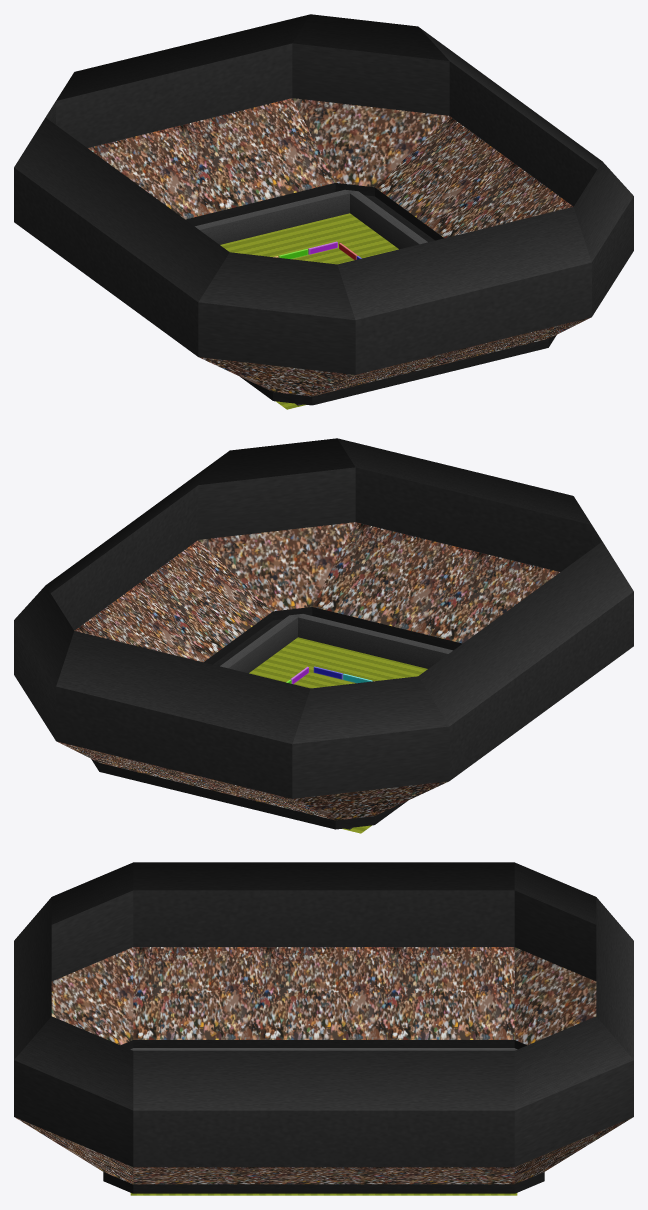
File: level4.fbx
3 renders of one model, top to bottom at view 1: azimuth 30°, elevation 25°; view 2: azimuth 150°, elevation 25°; view 3: azimuth 270°, elevation 25°, orthographic. The views are drawn at different scales.
Parts seen in each view (by area): view 1: polySurface328, pPlane27, polySurface324; view 2: polySurface328, pPlane27; view 3: polySurface328, pPlane27.
Part boxes in pixels (x1,y1,x2,y2): polySurface328: [14, 14, 633, 405]; pPlane27: [220, 213, 398, 409]; polySurface324: [273, 241, 361, 259]; polySurface328: [14, 438, 633, 829]; pPlane27: [249, 637, 427, 833]; polySurface328: [14, 862, 633, 1193]; pPlane27: [130, 1193, 517, 1195].
Size of the model in its own units: 1013 by 378 by 1205.
